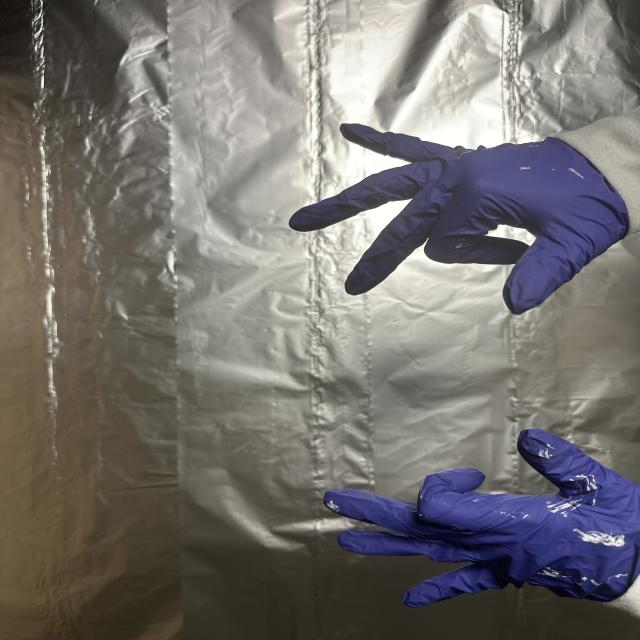gloves_contaminated: (290, 124, 630, 314), (324, 428, 640, 607)
